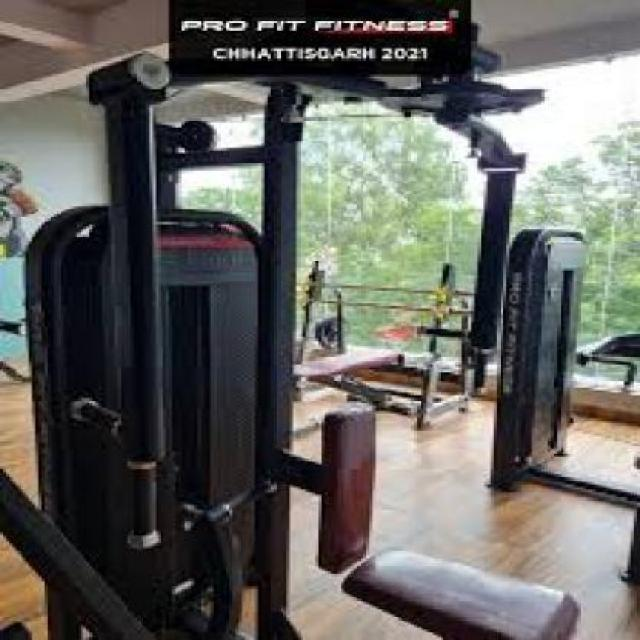chest fly machine: (1, 41, 595, 640)
